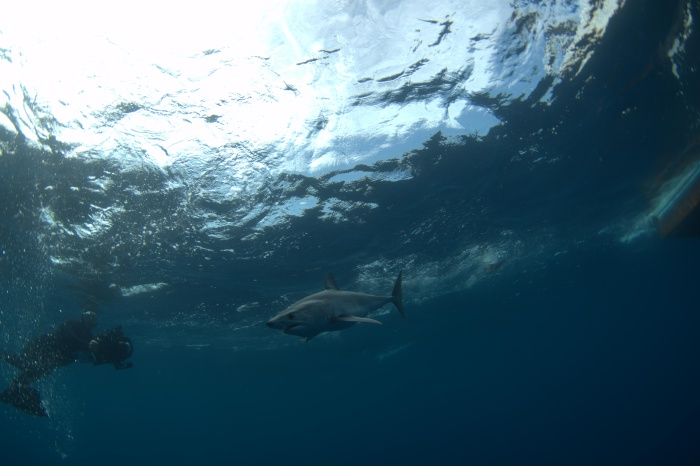Mako: (253, 270, 440, 347)
